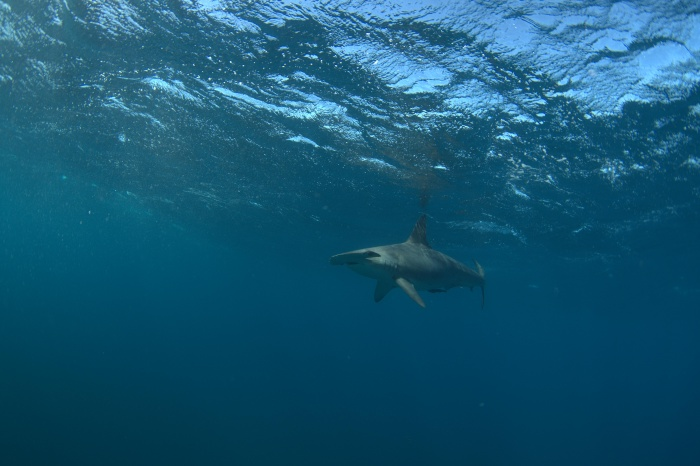Hammer: (317, 194, 512, 325)
